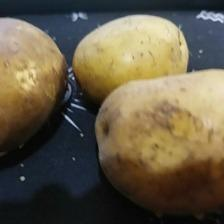Bud: (93, 68, 224, 224)
Damaged potato: (0, 15, 66, 176)
Potato: (74, 14, 191, 104)
